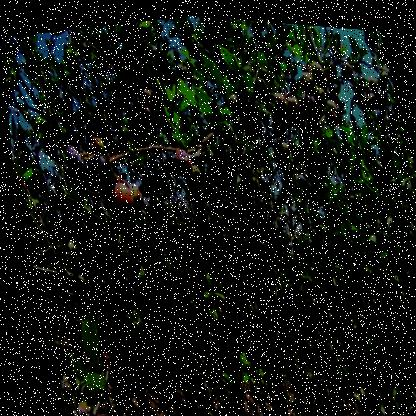intermediate: (106, 177, 134, 216), (170, 144, 194, 180), (98, 187, 118, 216), (271, 87, 290, 114), (90, 132, 106, 153), (325, 102, 338, 121), (142, 103, 152, 119)
mature: (84, 147, 116, 191), (61, 142, 85, 180), (297, 84, 319, 115), (235, 103, 256, 127), (269, 130, 283, 152), (372, 83, 385, 102), (294, 167, 307, 184), (256, 170, 268, 187)
young: (309, 53, 329, 83), (285, 89, 302, 113), (298, 63, 315, 87), (227, 88, 243, 112), (360, 86, 377, 108), (186, 159, 202, 182), (311, 79, 327, 101), (347, 384, 358, 402), (190, 68, 201, 84), (279, 133, 288, 149), (368, 71, 378, 85), (344, 54, 354, 68), (44, 36, 52, 48)
